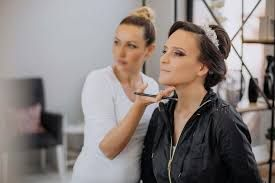no-mask: (156, 16, 236, 92), (102, 10, 156, 70)
